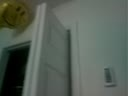window: (71, 1, 128, 96), (0, 0, 39, 96)
